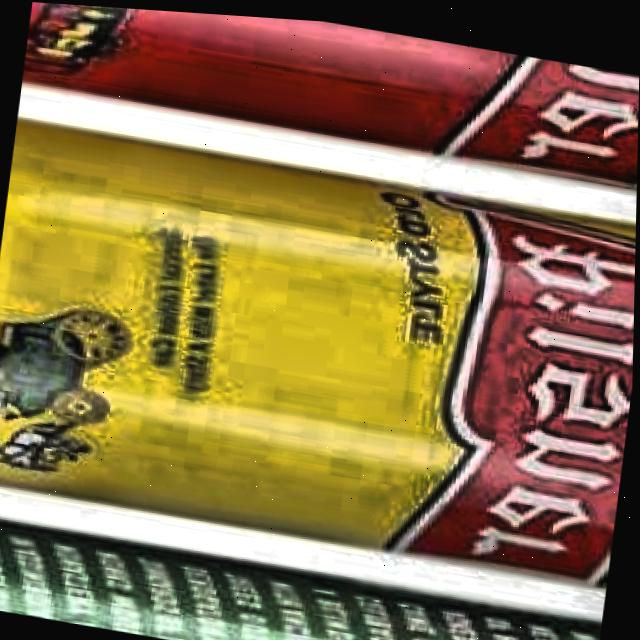metal: (0, 101, 638, 606), (18, 1, 640, 202)
